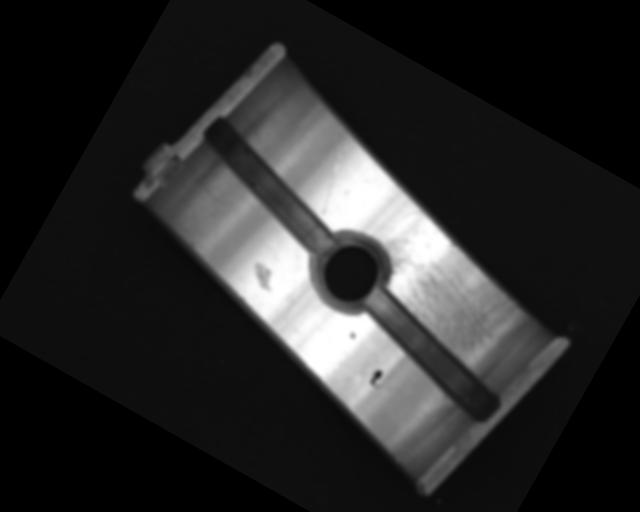blot: (366, 366, 388, 390)
bruise: (245, 258, 281, 292), (348, 331, 357, 340)
gap: (179, 115, 359, 261), (340, 285, 520, 427)
hole: (296, 219, 401, 325)
nick: (309, 154, 353, 215)
scratch: (347, 201, 551, 387)
